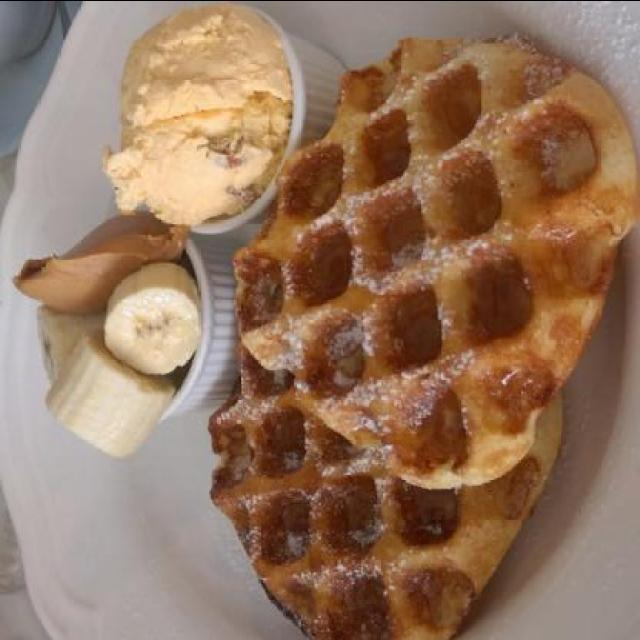Waffle: (230, 26, 639, 492), (206, 345, 569, 640)
